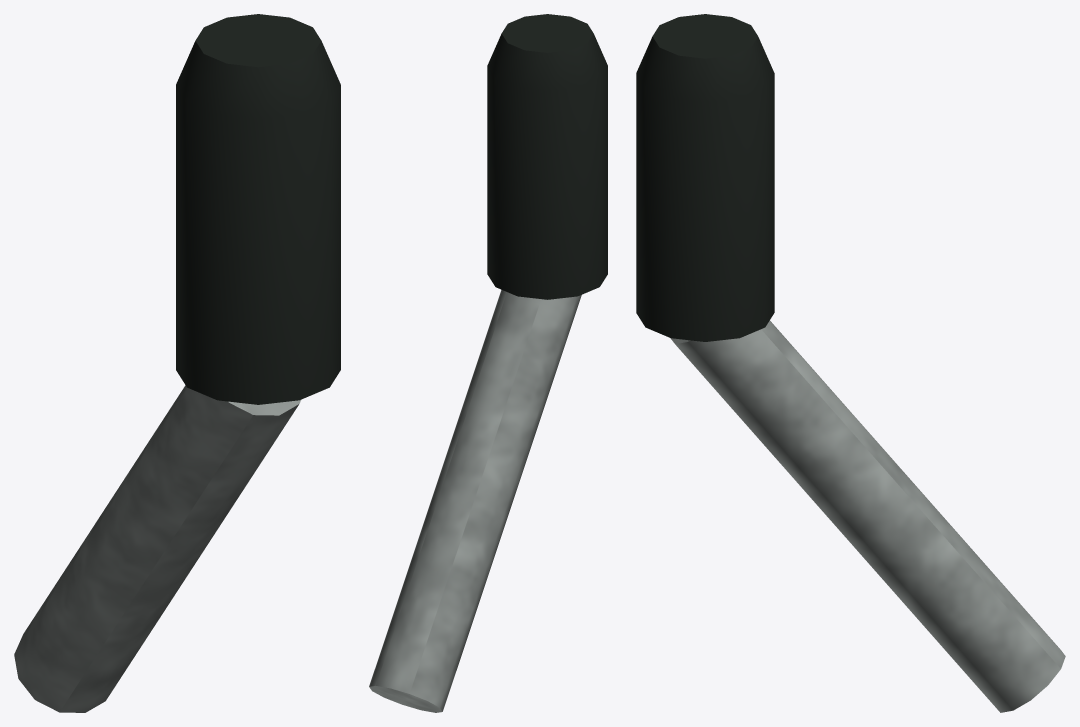
The model's file is SM_Substation_Lever_LOD1.fbx.
3 renders of one model, left to right at view 1: azimuth 30°, elevation 25°; view 2: azimuth 150°, elevation 25°; view 3: azimuth 270°, elevation 25°, orthographic. The views are drawn at different scales.
Visible parts, largest first — view 1: SM_Substation_Lever_LOD1; view 2: SM_Substation_Lever_LOD1; view 3: SM_Substation_Lever_LOD1.
Part boxes in pixels (x1,y1,x2,y2): SM_Substation_Lever_LOD1: [14, 14, 340, 712]; SM_Substation_Lever_LOD1: [369, 14, 607, 712]; SM_Substation_Lever_LOD1: [636, 14, 1065, 712].
Bounding box in the file's own units: 0.068 × 0.2112 × 0.3637.
